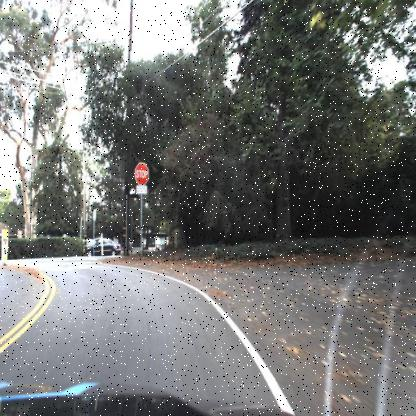car: (84, 236, 122, 258)
